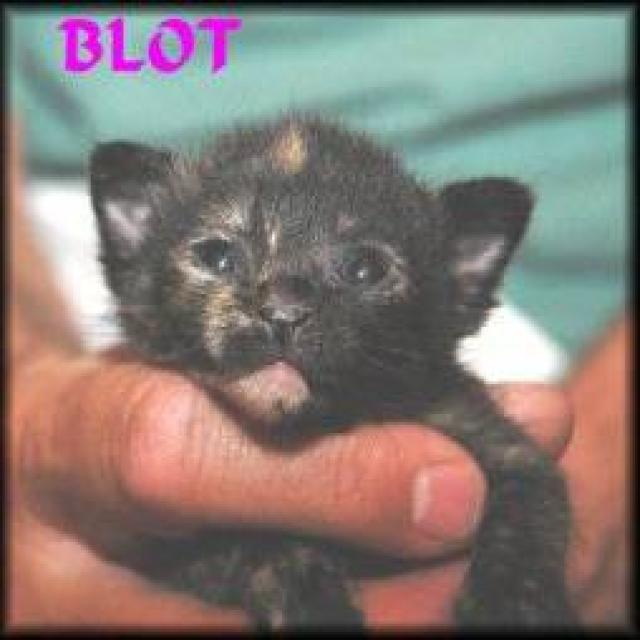cat: (86, 106, 580, 629)
